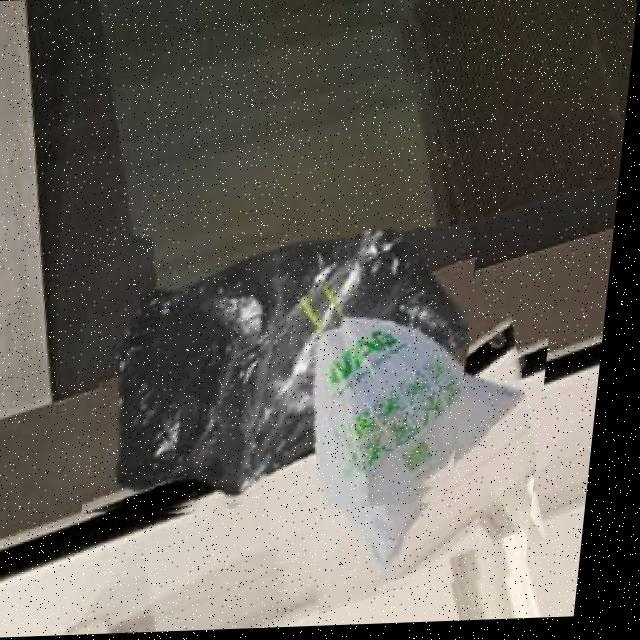litter: (94, 228, 484, 523), (272, 294, 561, 605)
